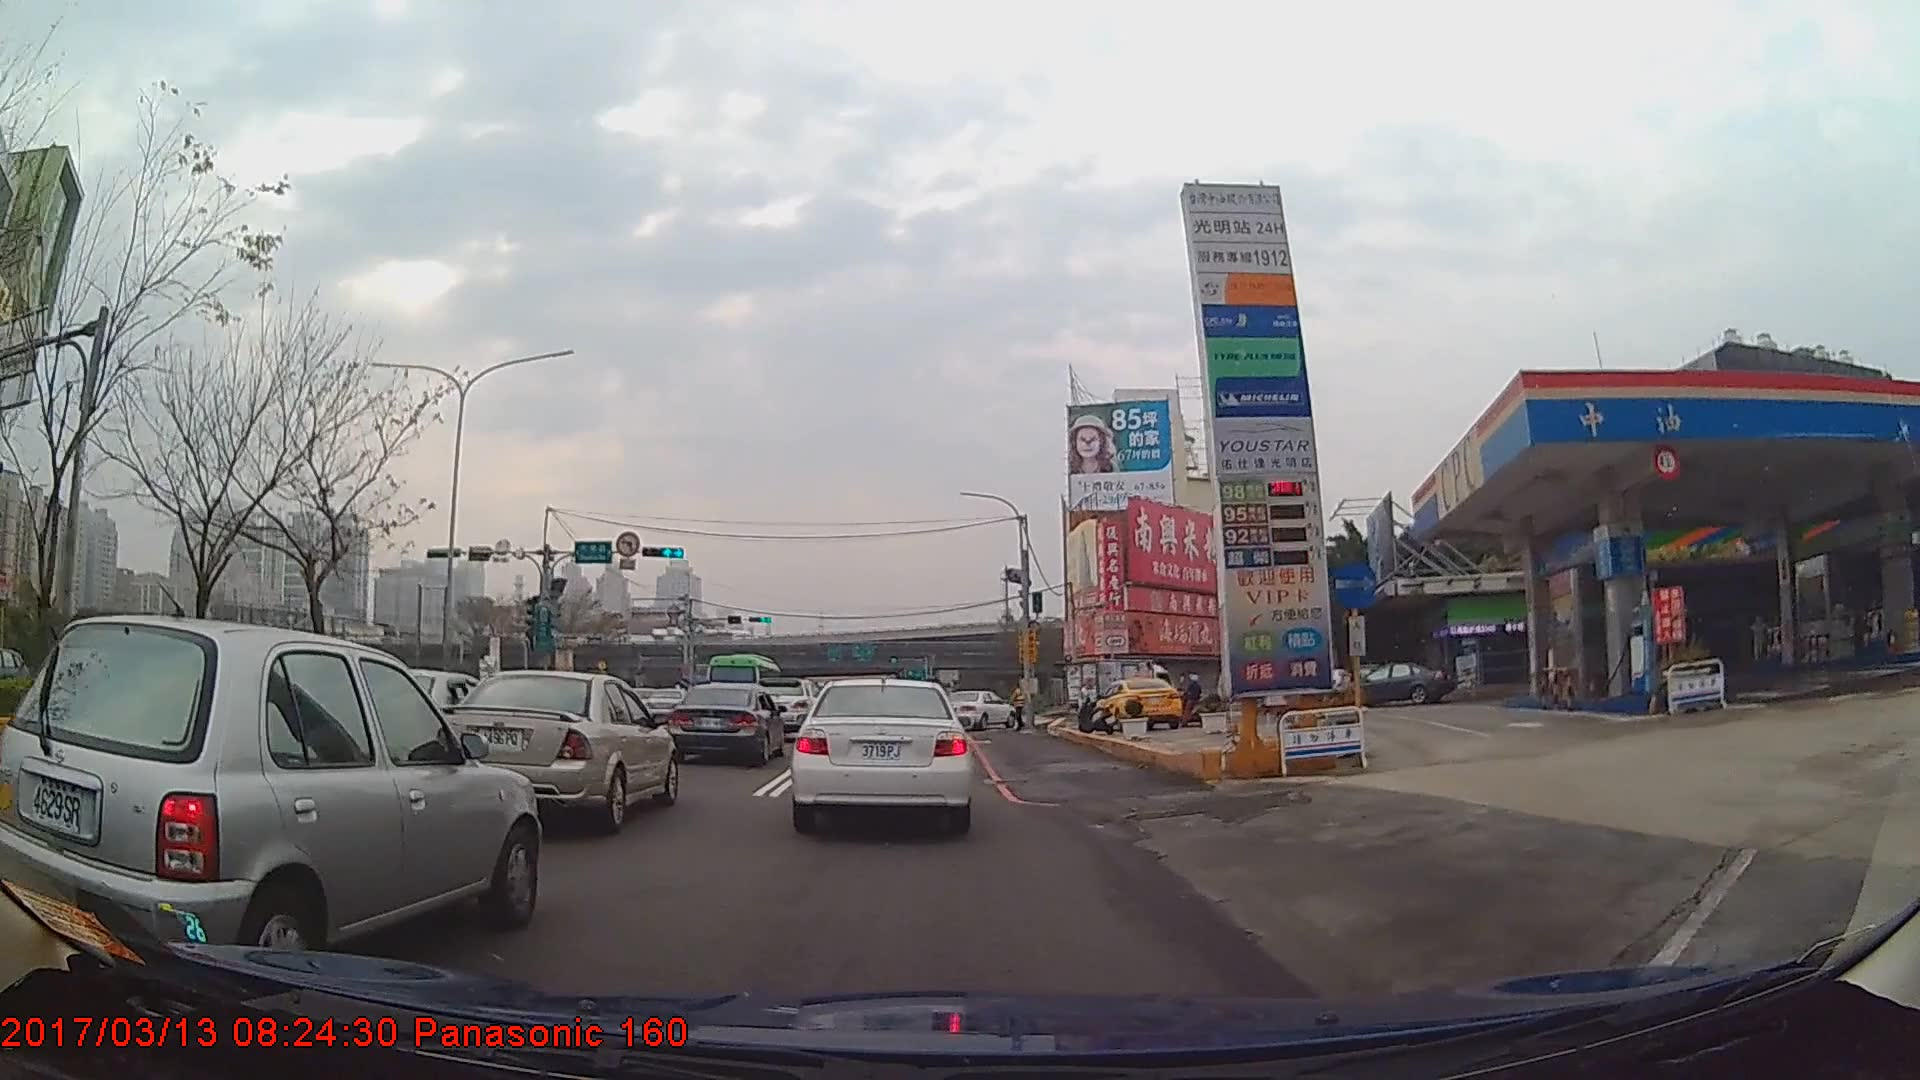rider: (1301, 663, 1337, 723), (1180, 673, 1216, 730)
vehicle: (0, 612, 538, 983), (432, 667, 681, 831), (793, 674, 974, 834), (665, 680, 790, 767), (1063, 657, 1174, 719), (1338, 662, 1454, 705), (703, 652, 783, 714), (1097, 676, 1185, 730), (942, 687, 1016, 730), (0, 643, 31, 707)
